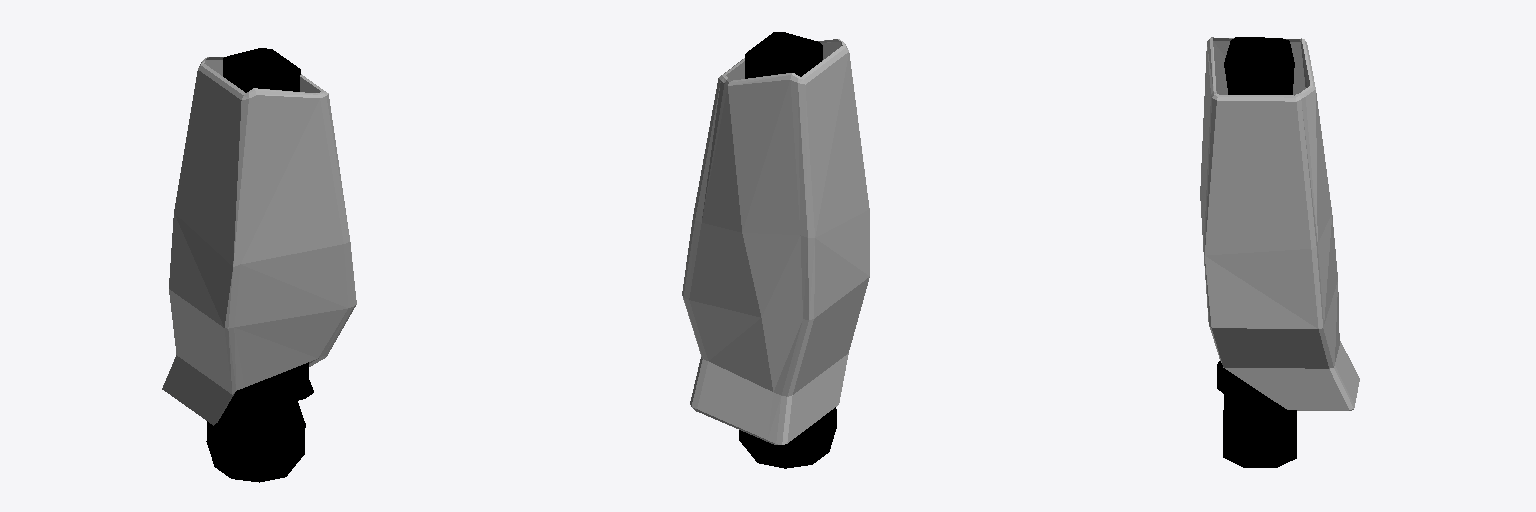
The model's file is Upper_Arm_Right.obj.
3 views of the same model, side by side, from view 1: azimuth 30°, elevation 25°; view 2: azimuth 150°, elevation 25°; view 3: azimuth 270°, elevation 25° (orthographic).
Visible parts, largest first — view 1: upper_arm_right, joint_upper_arm_Right; view 2: upper_arm_right, joint_upper_arm_Right; view 3: upper_arm_right, joint_upper_arm_Right.
Boxes of the visible parts, x1,y1,x2,y2 form: upper_arm_right: [162, 57, 356, 425]; joint_upper_arm_Right: [206, 48, 313, 482]; upper_arm_right: [682, 39, 869, 444]; joint_upper_arm_Right: [739, 32, 836, 468]; upper_arm_right: [1200, 37, 1359, 410]; joint_upper_arm_Right: [1217, 37, 1296, 467].
Size of the model in its own units: 0.3456 by 1 by 0.3582.